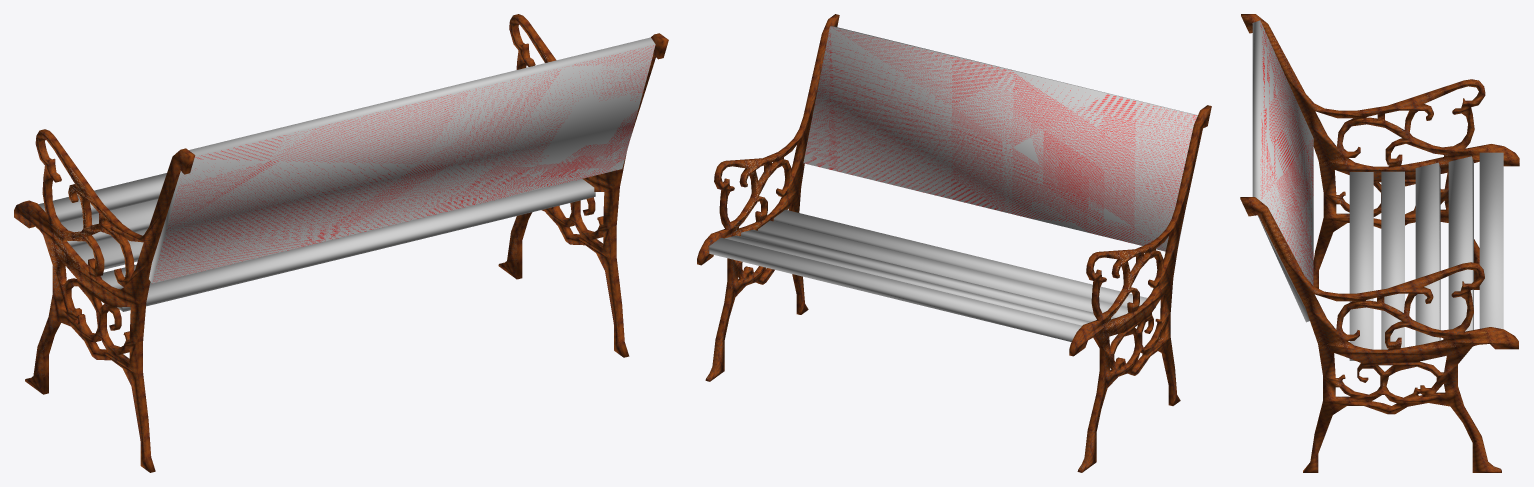
3 views of the same model, side by side, from view 1: azimuth 30°, elevation 25°; view 2: azimuth 150°, elevation 25°; view 3: azimuth 270°, elevation 25° (orthographic). The views are drawn at different scales.
Visible parts, largest first — view 1: mesh2_mesh2-geometry, mesh1_mesh1-geometry, mesh3_mesh3-geometry; view 2: mesh2_mesh2-geometry, mesh3_mesh3-geometry, mesh1_mesh1-geometry; view 3: mesh1_mesh1-geometry, mesh3_mesh3-geometry, mesh2_mesh2-geometry.
Part boxes in pixels (left/top/right/bottom): mesh2_mesh2-geometry: left=149, top=37, right=655, bottom=283; mesh1_mesh1-geometry: left=14, top=14, right=668, bottom=472; mesh3_mesh3-geometry: left=38, top=173, right=595, bottom=311; mesh2_mesh2-geometry: left=803, top=26, right=1197, bottom=251; mesh3_mesh3-geometry: left=709, top=209, right=1155, bottom=341; mesh1_mesh1-geometry: left=697, top=14, right=1211, bottom=472; mesh1_mesh1-geometry: left=1240, top=14, right=1519, bottom=472; mesh3_mesh3-geometry: left=1349, top=152, right=1503, bottom=360; mesh2_mesh2-geometry: left=1252, top=20, right=1313, bottom=322.
Size of the model in its own units: 0.7292 by 0.5027 by 0.4644.
